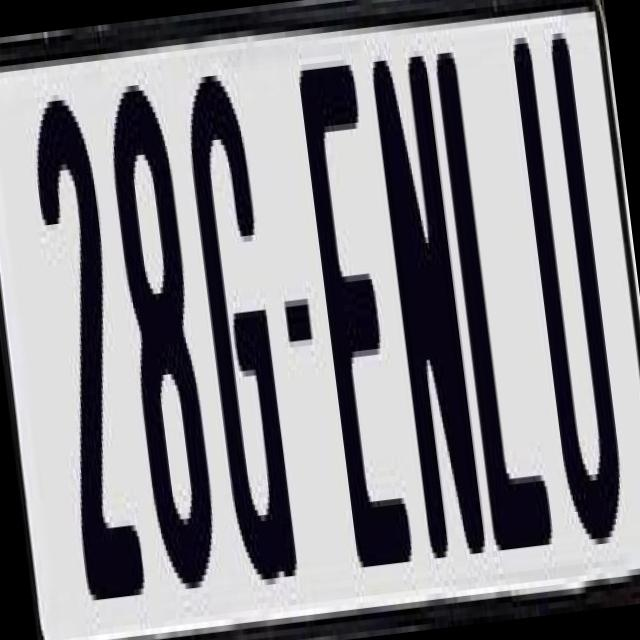2: (24, 85, 152, 595)
8: (98, 81, 227, 621)
E: (290, 47, 410, 574)
G: (174, 54, 302, 588)
L: (428, 36, 552, 568)
N: (364, 38, 484, 564)
U: (510, 26, 632, 576)
